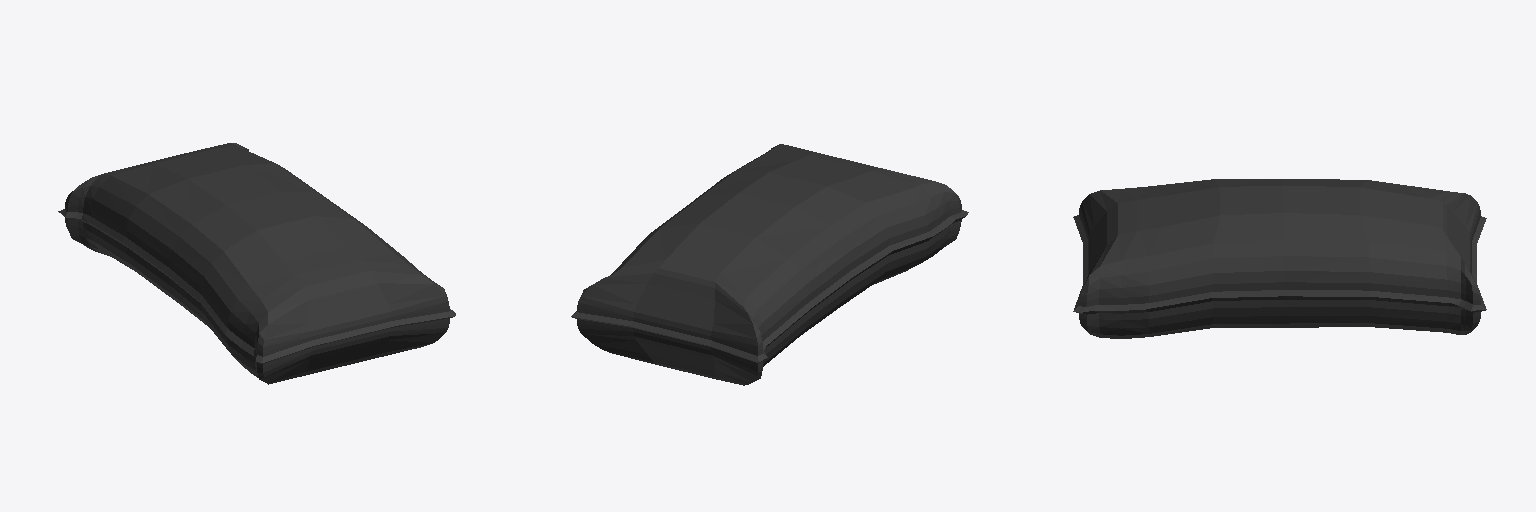
The model's file is SandBag.obj.
The picture shows the model from 3 angles: view 1: azimuth 30°, elevation 25°; view 2: azimuth 150°, elevation 25°; view 3: azimuth 270°, elevation 25°; orthographic projection.
Parts seen in each view (by area): view 1: iso_PR_SandBag; view 2: iso_PR_SandBag; view 3: iso_PR_SandBag.
Part boxes in pixels (left/top/right/bottom): iso_PR_SandBag: left=58, top=143, right=455, bottom=384; iso_PR_SandBag: left=571, top=144, right=968, bottom=385; iso_PR_SandBag: left=1073, top=179, right=1486, bottom=338.
Size of the model in its own units: 2.33 by 1.27 by 4.18.